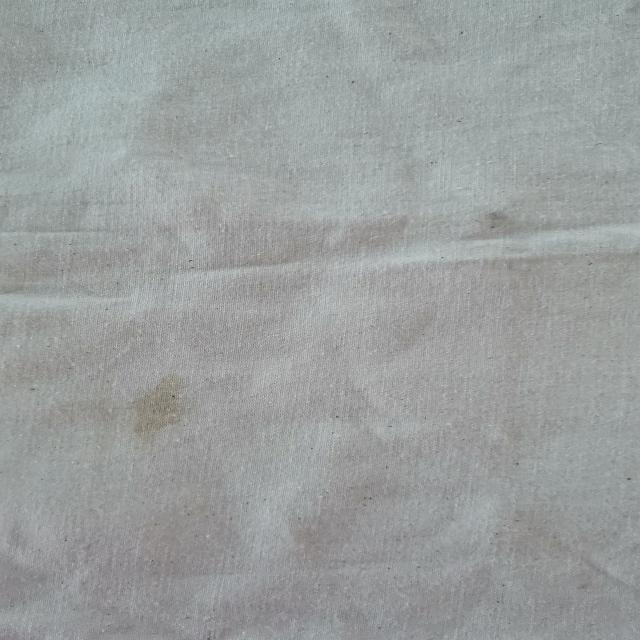taaaches: (120, 362, 229, 458), (458, 190, 561, 254)
